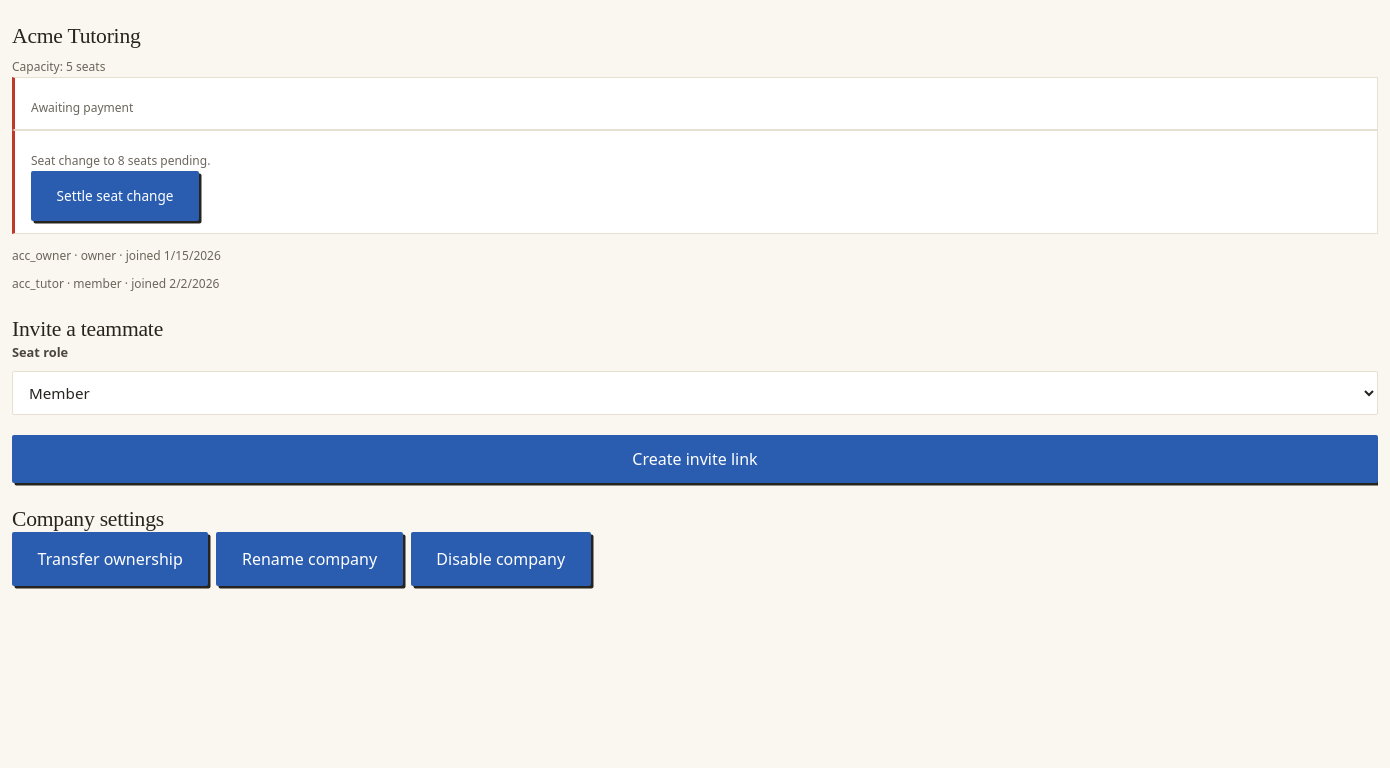
Test case: CompanyAdminPanel pending seat change › shows a pending seat change and settles it through POST /api/company/seats
Expected: the element with test id "company-pending-seats" is shown, [12, 130, 1378, 234]
Expected: the element with test id "company-pending-seats" shows "8", [118, 152, 125, 169]
Click the button with test id "company-seat-change-settle" at (115, 196), box [31, 171, 199, 221]
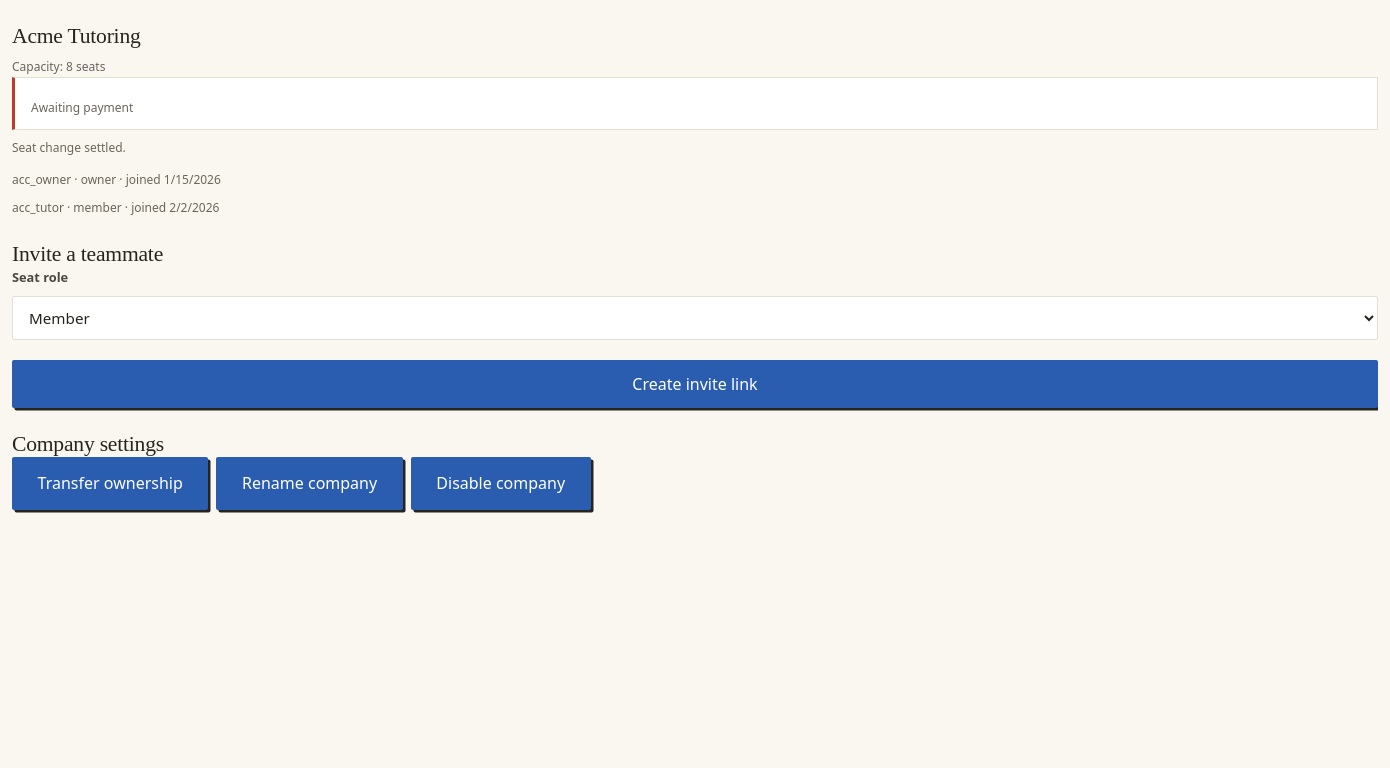
Result: the element with test id "company-pending-seats" is gone
Result: the text with test id "company-capacity" shows "8" at [66, 58, 73, 75]
